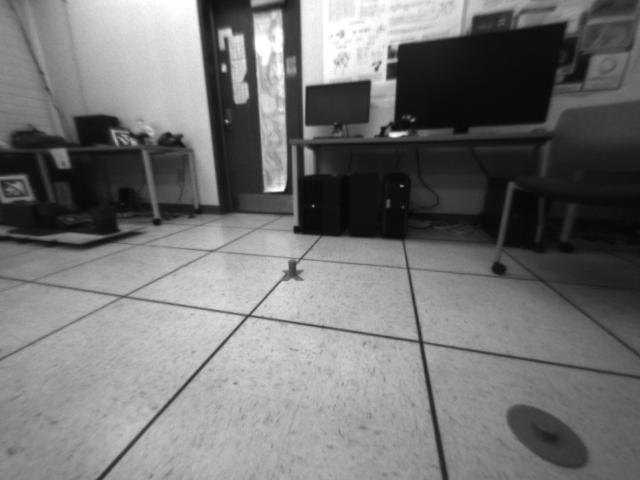X: (280, 258, 305, 282)
